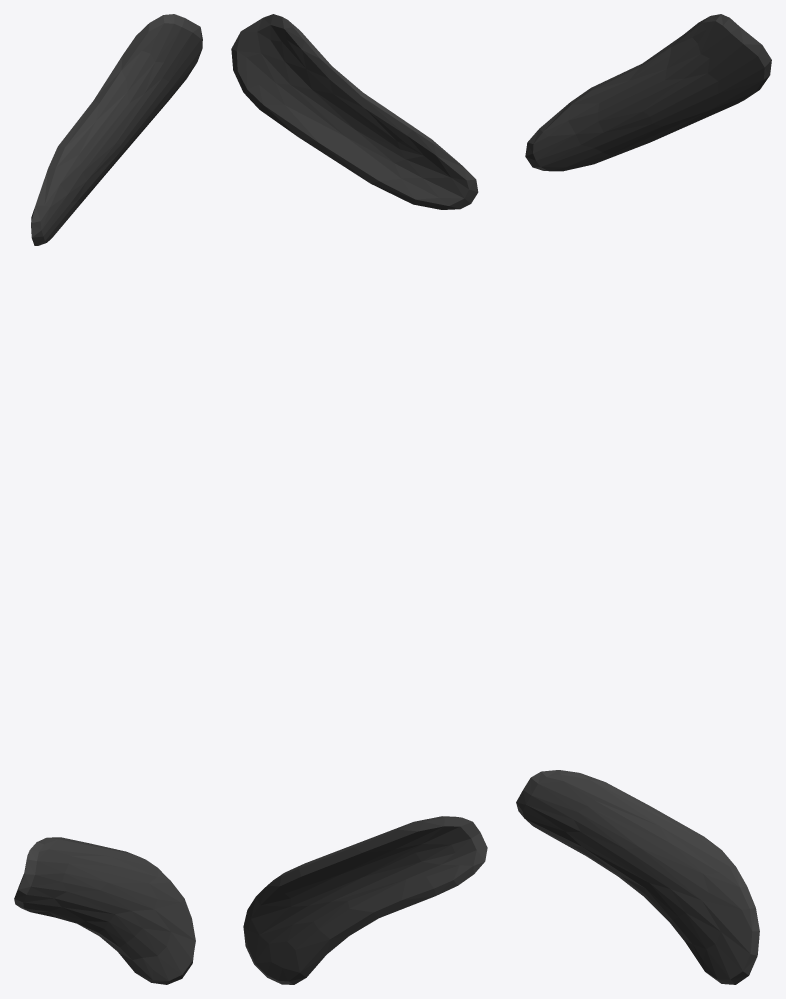
File: Pelvis_lesser_sciatic_notch.glb
3 views of the same model, side by side, from view 1: azimuth 30°, elevation 25°; view 2: azimuth 150°, elevation 25°; view 3: azimuth 330°, elevation 25° (orthographic).
Parts seen in each view (by area): view 1: Pelvis_lesser_sciatic_notch; view 2: Pelvis_lesser_sciatic_notch; view 3: Pelvis_lesser_sciatic_notch.
Boxes of the visible parts, left/top/right/bottom form: Pelvis_lesser_sciatic_notch: left=14, top=14, right=202, bottom=984; Pelvis_lesser_sciatic_notch: left=231, top=14, right=487, bottom=984; Pelvis_lesser_sciatic_notch: left=516, top=14, right=771, bottom=984.
Size of the model in its own units: 1.03 by 4.3 by 0.365.
Materials: 1 (1 with a texture image).
